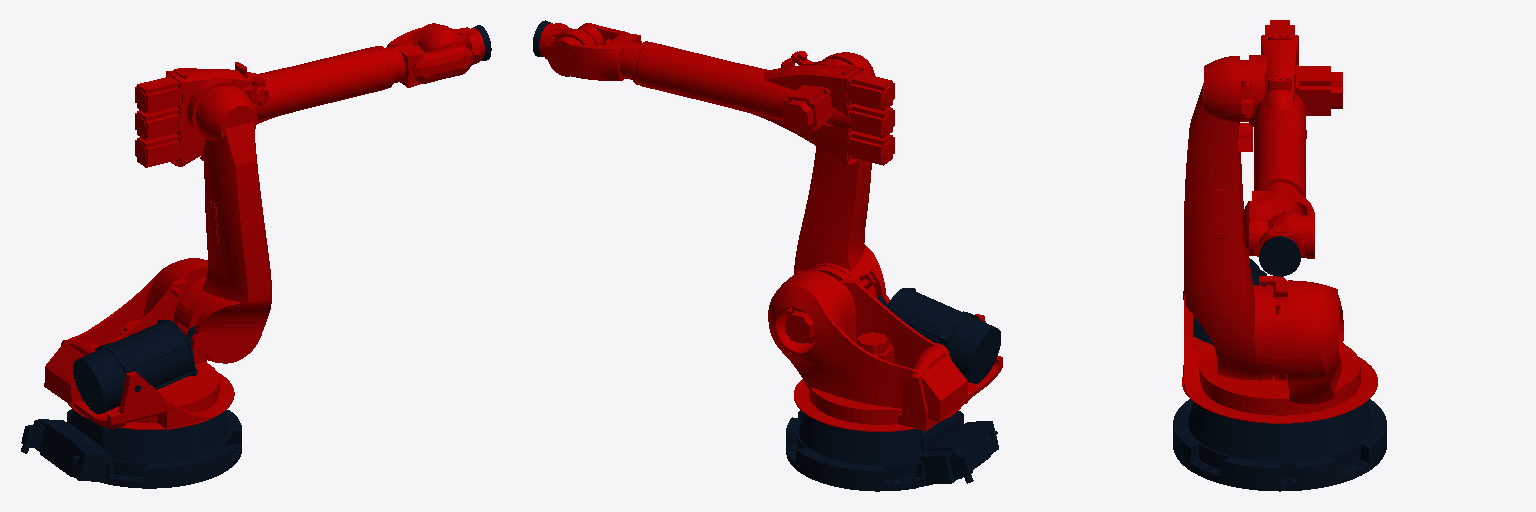
robot.urdf — reis_rv240_180:
<?xml version="1.0" ?>
<!-- =================================================================================== -->
<!-- |    This document was autogenerated by xacro from rv240_180.xacro                | -->
<!-- |    EDITING THIS FILE BY HAND IS NOT RECOMMENDED                                 | -->
<!-- =================================================================================== -->
<robot name="reis_rv240_180" xmlns:xacro="http://ros.org/wiki/xacro">
  <link name="base_link">
    <visual>
      <origin rpy="0 0 0" xyz="0 0 0"/>
      <geometry>
        <mesh filename="package://reis_rv240_support/meshes/rv240_180/visual/base_link.stl"/>
      </geometry>
      <material name="">
        <color rgba="0.059 0.11  0.17  1.0"/>
      </material>
    </visual>
    <collision>
      <origin rpy="0 0 0" xyz="0 0 0"/>
      <geometry>
        <mesh filename="package://reis_rv240_support/meshes/rv240_180/collision/base_link.stl"/>
      </geometry>
    </collision>
  </link>
  <link name="link_1">
    <visual>
      <origin rpy="0 0 0" xyz="0 0 0"/>
      <geometry>
        <mesh filename="package://reis_rv240_support/meshes/rv240_180/visual/link_1.stl"/>
      </geometry>
      <material name="">
        <color rgba="0.74  0.016 0.016 1.0"/>
      </material>
    </visual>
    <collision>
      <origin rpy="0 0 0" xyz="0 0 0"/>
      <geometry>
        <mesh filename="package://reis_rv240_support/meshes/rv240_180/collision/link_1.stl"/>
      </geometry>
    </collision>
  </link>
  <link name="link_2">
    <visual>
      <origin rpy="0 0 0" xyz="0 0 0"/>
      <geometry>
        <mesh filename="package://reis_rv240_support/meshes/rv240_180/visual/link_2.stl"/>
      </geometry>
      <material name="">
        <color rgba="0.74  0.016 0.016 1.0"/>
      </material>
    </visual>
    <collision>
      <origin rpy="0 0 0" xyz="0 0 0"/>
      <geometry>
        <mesh filename="package://reis_rv240_support/meshes/rv240_180/collision/link_2.stl"/>
      </geometry>
    </collision>
  </link>
  <link name="link_3">
    <visual>
      <origin rpy="0 0 0" xyz="0 0 0"/>
      <geometry>
        <mesh filename="package://reis_rv240_support/meshes/rv240_180/visual/link_3.stl"/>
      </geometry>
      <material name="">
        <color rgba="0.74  0.016 0.016 1.0"/>
      </material>
    </visual>
    <collision>
      <origin rpy="0 0 0" xyz="0 0 0"/>
      <geometry>
        <mesh filename="package://reis_rv240_support/meshes/rv240_180/collision/link_3.stl"/>
      </geometry>
    </collision>
  </link>
  <link name="link_4">
    <visual>
      <origin rpy="0 0 0" xyz="0 0 0"/>
      <geometry>
        <mesh filename="package://reis_rv240_support/meshes/rv240_180/visual/link_4.stl"/>
      </geometry>
      <material name="">
        <color rgba="0.74  0.016 0.016 1.0"/>
      </material>
    </visual>
    <collision>
      <origin rpy="0 0 0" xyz="0 0 0"/>
      <geometry>
        <mesh filename="package://reis_rv240_support/meshes/rv240_180/collision/link_4.stl"/>
      </geometry>
    </collision>
  </link>
  <link name="link_5">
    <visual>
      <origin rpy="0 0 0" xyz="0 0 0"/>
      <geometry>
        <mesh filename="package://reis_rv240_support/meshes/rv240_180/visual/link_5.stl"/>
      </geometry>
      <material name="">
        <color rgba="0.74  0.016 0.016 1.0"/>
      </material>
    </visual>
    <collision>
      <origin rpy="0 0 0" xyz="0 0 0"/>
      <geometry>
        <mesh filename="package://reis_rv240_support/meshes/rv240_180/collision/link_5.stl"/>
      </geometry>
    </collision>
  </link>
  <link name="link_6">
    <visual>
      <origin rpy="0 0 0" xyz="0 0 0"/>
      <geometry>
        <mesh filename="package://reis_rv240_support/meshes/rv240_180/visual/link_6.stl"/>
      </geometry>
      <material name="">
        <color rgba="0.059 0.11  0.17  1.0"/>
      </material>
    </visual>
    <collision>
      <origin rpy="0 0 0" xyz="0 0 0"/>
      <geometry>
        <mesh filename="package://reis_rv240_support/meshes/rv240_180/collision/link_6.stl"/>
      </geometry>
    </collision>
  </link>
  <link name="tool0"/>
  <link name="kolben">
    <visual>
      <origin rpy="0 0 0" xyz="0 0 0"/>
      <geometry>
        <mesh filename="package://reis_rv240_support/meshes/rv240_180/visual/kolben.stl"/>
      </geometry>
      <material name="">
        <color rgba="0.059 0.11  0.17  1.0"/>
      </material>
    </visual>
    <collision>
      <origin rpy="0 0 0" xyz="0 0 0"/>
      <geometry>
        <mesh filename="package://reis_rv240_support/meshes/rv240_180/collision/kolben.stl"/>
      </geometry>
    </collision>
  </link>
  <link name="zylinder">
    <visual>
      <origin rpy="0 0 0" xyz="0 0 0"/>
      <geometry>
        <mesh filename="package://reis_rv240_support/meshes/rv240_180/visual/zylinder.stl"/>
      </geometry>
      <material name="">
        <color rgba="0.059 0.11  0.17  1.0"/>
      </material>
    </visual>
    <collision>
      <origin rpy="0 0 0" xyz="0 0 0"/>
      <geometry>
        <mesh filename="package://reis_rv240_support/meshes/rv240_180/collision/zylinder.stl"/>
      </geometry>
    </collision>
  </link>
  <joint name="joint_1" type="revolute">
    <origin rpy="0 0 0" xyz="0 0 0.30065"/>
    <parent link="base_link"/>
    <child link="link_1"/>
    <axis xyz="0 0 -1"/>
    <limit effort="0" lower="-3.14" upper="3.14" velocity="1.43"/>
  </joint>
  <joint name="joint_2" type="revolute">
    <origin rpy="0 0 0" xyz="0.35 0 0.44935"/>
    <parent link="link_1"/>
    <child link="link_2"/>
    <axis xyz="0 1 0"/>
    <limit effort="0" lower="-2.55" upper="1" velocity="1.36"/>
  </joint>
  <joint name="joint_3" type="revolute">
    <origin rpy="0 0 0" xyz="0 0 1.25"/>
    <parent link="link_2"/>
    <child link="link_3"/>
    <axis xyz="0 1 0"/>
    <limit effort="0" lower="-2.08" upper="2.71" velocity="1.33"/>
  </joint>
  <joint name="joint_4" type="revolute">
    <origin rpy="0 0 0" xyz="0 0 -0.055"/>
    <parent link="link_3"/>
    <child link="link_4"/>
    <axis xyz="1 0 0"/>
    <limit effort="0" lower="-6.11" upper="6.11" velocity="1.75"/>
  </joint>
  <joint name="joint_5" type="revolute">
    <origin rpy="0 0 0" xyz="1.5 0 0"/>
    <parent link="link_4"/>
    <child link="link_5"/>
    <axis xyz="0 1 0"/>
    <limit effort="0" lower="-2.18" upper="2.18" velocity="1.92"/>
  </joint>
  <joint name="joint_6" type="revolute">
    <origin rpy="0 0 0" xyz="0 0 0"/>
    <parent link="link_5"/>
    <child link="link_6"/>
    <axis xyz="1 0 0"/>
    <limit effort="0" lower="-6.11" upper="6.11" velocity="3.21"/>
  </joint>
  <joint name="joint_6-tool0" type="fixed">
    <parent link="link_6"/>
    <child link="tool0"/>
    <origin rpy="0 0 0" xyz="0 0 0"/>
  </joint>
  <joint name="link2_kolb_joint" type="revolute">
    <origin rpy="0 -0.18528 1.4987E-15" xyz="-0.54782 -0.23325 -0.10066"/>
    <parent link="link_2"/>
    <child link="kolben"/>
    <axis xyz="0 1 0"/>
    <limit effort="0" lower="-6.28" upper="6.28" velocity="3.14"/>
  </joint>
  <joint name="link1_zyl_joint" type="revolute">
    <origin rpy="-2.7159E-16 -0.18528 1.4742E-15" xyz="-0.3357 -0.01455 0.32285"/>
    <parent link="link_1"/>
    <child link="zylinder"/>
    <axis xyz="0 1 0"/>
    <limit effort="0" lower="-6.28" upper="6.28" velocity="3.14"/>
  </joint>
</robot>

--- Render facts (derived) ---
3 views of the same robot in one strip: view 1: azimuth 30°, elevation 25°; view 2: azimuth 150°, elevation 25°; view 3: azimuth 270°, elevation 25° (orthographic).
Robot: reis_rv240_180 — 10 links, 9 joints (8 revolute, 1 fixed); root link base_link; default pose: all joints at 0.
Visible links, largest first — view 1: link_2, link_3, link_1, base_link, zylinder, link_4, link_5; view 2: link_1, link_3, base_link, link_2, zylinder, link_4, link_5; view 3: link_2, link_1, base_link, link_3, link_4, link_6, link_5.
Boxes of the visible links, box(x1,y1,x2,y2) form: link_2: box(174, 86, 271, 363); link_3: box(135, 51, 369, 167); link_1: box(44, 258, 234, 430); base_link: box(21, 409, 241, 488); zylinder: box(73, 319, 197, 414); link_4: box(356, 23, 472, 93); link_5: box(419, 25, 484, 64); link_1: box(768, 270, 1002, 431); link_3: box(656, 47, 894, 165); base_link: box(786, 410, 998, 491); link_2: box(794, 52, 889, 303); zylinder: box(886, 288, 1000, 383); link_4: box(547, 23, 669, 90); link_5: box(539, 23, 596, 59); link_2: box(1184, 56, 1287, 380); link_1: box(1182, 276, 1377, 423); base_link: box(1173, 399, 1386, 491); link_3: box(1241, 20, 1342, 183); link_4: box(1243, 165, 1314, 258); link_6: box(1259, 236, 1300, 276); link_5: box(1254, 211, 1305, 257).
Size in the robot's own frame: 2.77 by 0.9988 by 2.21 metres.
Meshes: 9 distinct files referenced, 9 mesh visuals loaded (9 binary STL).
